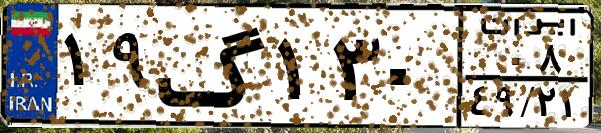0: (385, 28, 445, 110), (508, 27, 537, 80)
1: (270, 28, 330, 110), (57, 26, 110, 100), (560, 70, 590, 125)
2: (535, 70, 560, 125)
3: (330, 28, 385, 110)
4: (470, 70, 495, 125)
8: (537, 27, 568, 80)
9: (110, 28, 156, 98), (495, 70, 520, 125)
گ: (156, 12, 270, 120)
